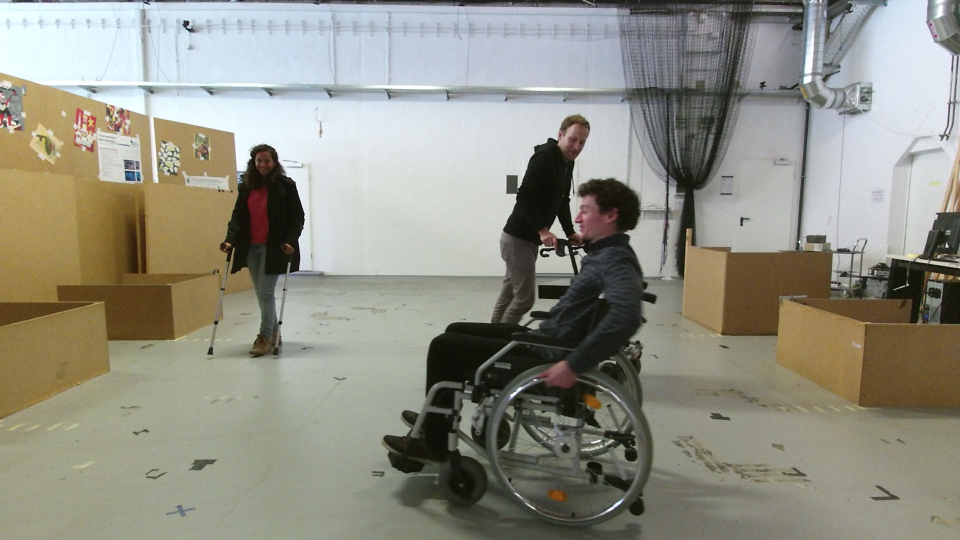crutches: (200, 139, 305, 359)
wheelchair: (377, 173, 659, 535)
